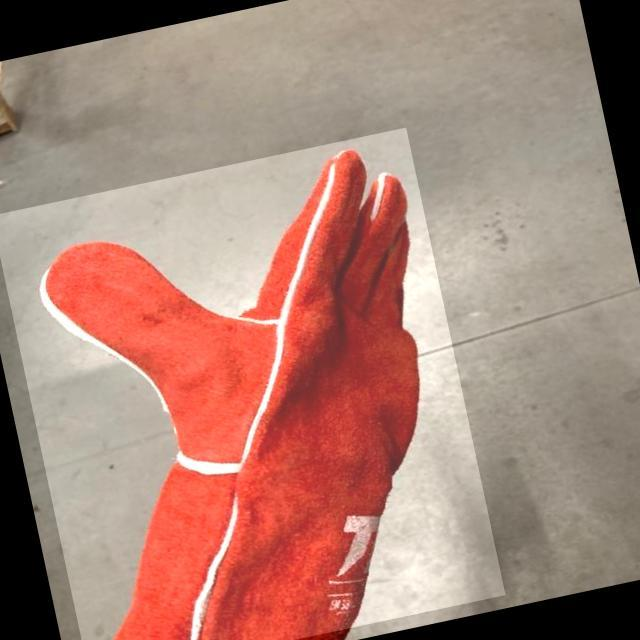Gloves: (0, 127, 505, 640)
